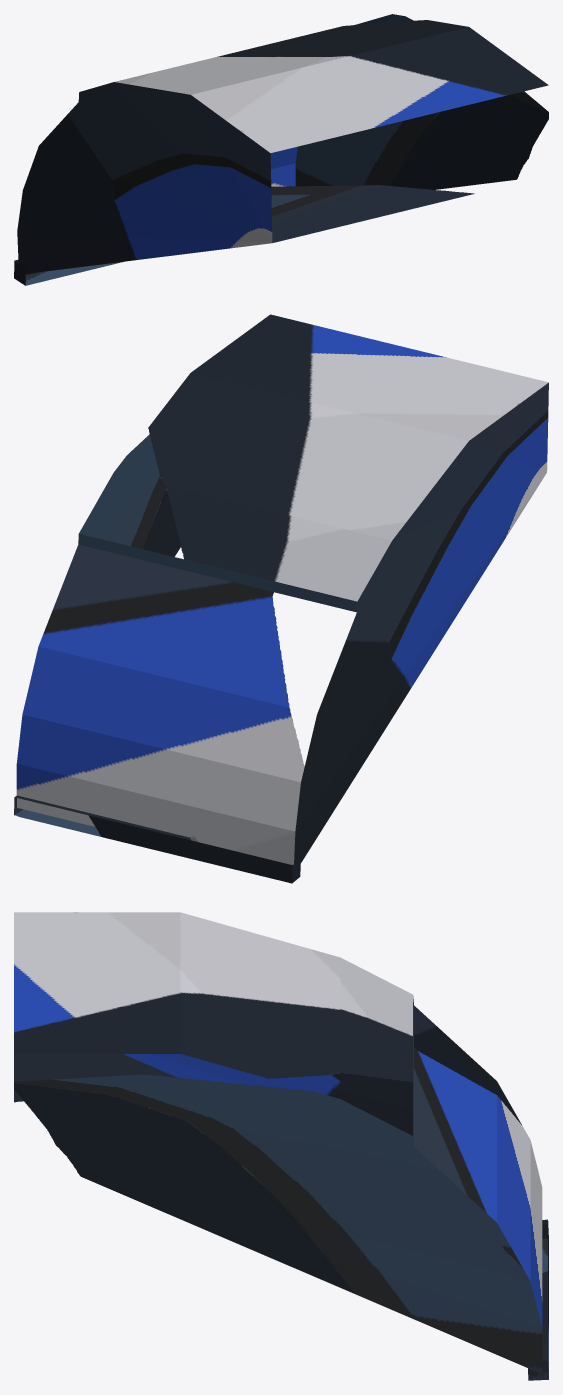
The model's file is df11g_carport_eh_blind.obj.
The picture shows the model from 3 angles, top to bottom: view 1: azimuth 30°, elevation 25°; view 2: azimuth 150°, elevation 25°; view 3: azimuth 270°, elevation 25°; orthographic projection. The views are drawn at different scales.
Visible parts, largest first — view 1: cube; view 2: cube; view 3: cube.
Boxes of the visible parts, x1=… form: cube: x1=14, y1=14, x2=548, y2=285; cube: x1=14, y1=314, x2=548, y2=883; cube: x1=14, y1=912, x2=548, y2=1380.
Bounding box in the file's own units: 1.01 × 1.08 × 1.61.
